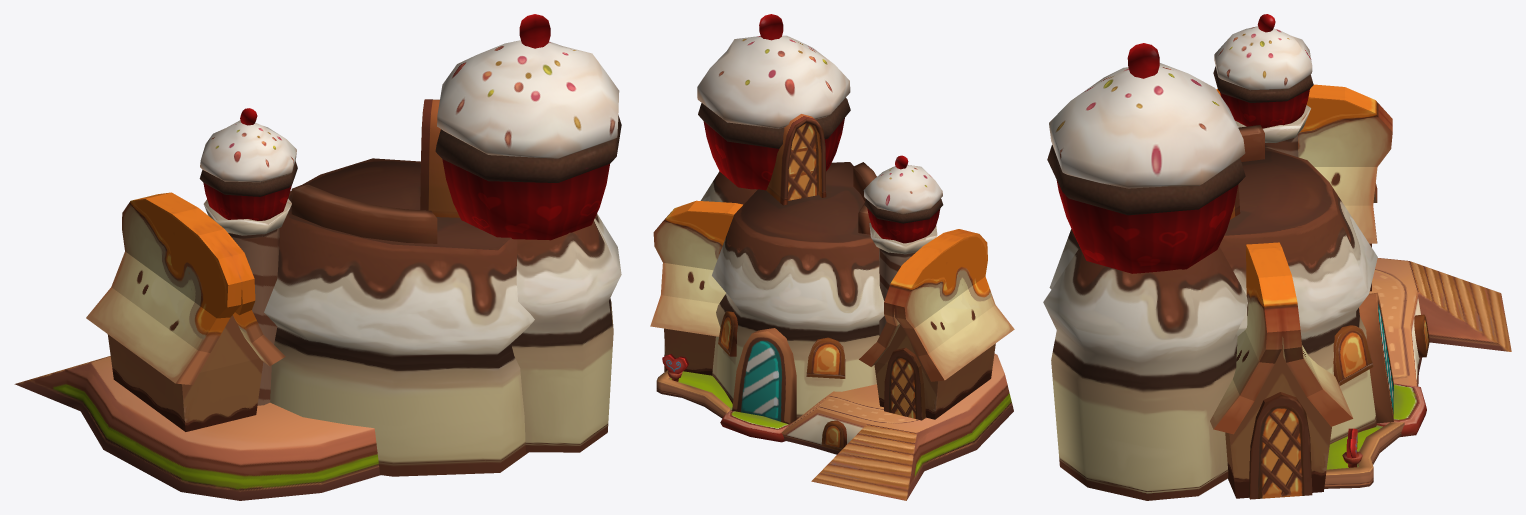
Rendered from common_obj_185.fbx.
3 views of the same model, side by side, from view 1: azimuth 30°, elevation 25°; view 2: azimuth 150°, elevation 25°; view 3: azimuth 270°, elevation 25° (orthographic). The views are drawn at different scales.
Visible parts, largest first — view 1: common_obj_185; view 2: common_obj_185; view 3: common_obj_185.
Boxes of the visible parts, bbox=[...] form: common_obj_185: bbox=[14, 14, 621, 500]; common_obj_185: bbox=[650, 14, 1014, 500]; common_obj_185: bbox=[1043, 14, 1511, 500].
Bounding box in the file's own units: 1479 × 1367 × 1364.
